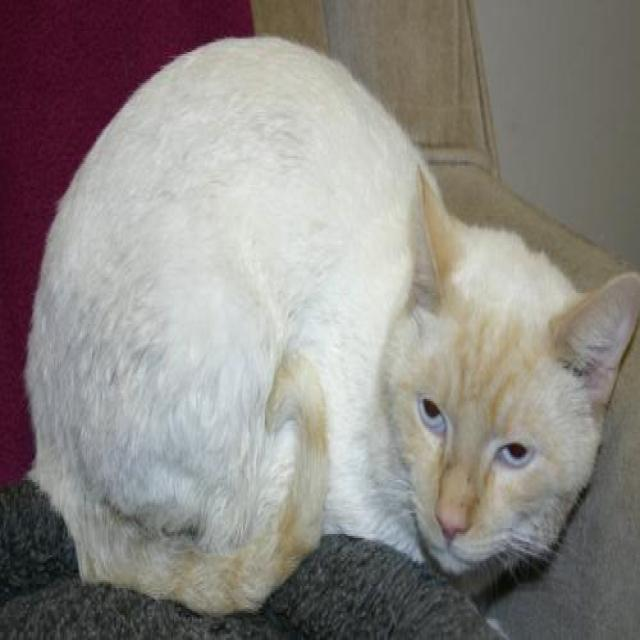cats: (25, 37, 640, 614)
